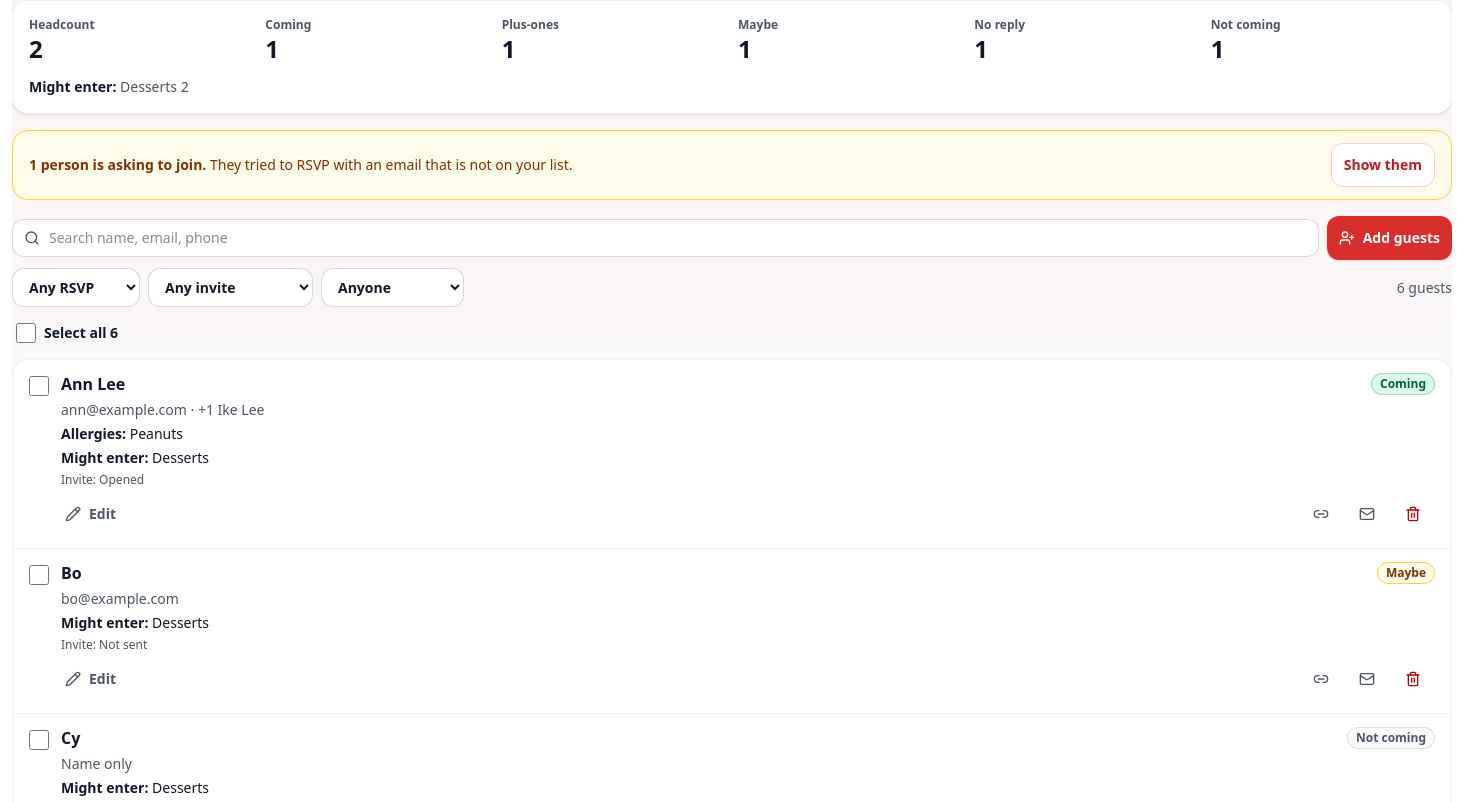
GuestsTab › filters RSVP answer and invite progress separately
The image size is (1464, 802).
Select "Maybe" in the dropdown named "RSVP" at {"x": 76, "y": 288}, box [12, 268, 140, 307]
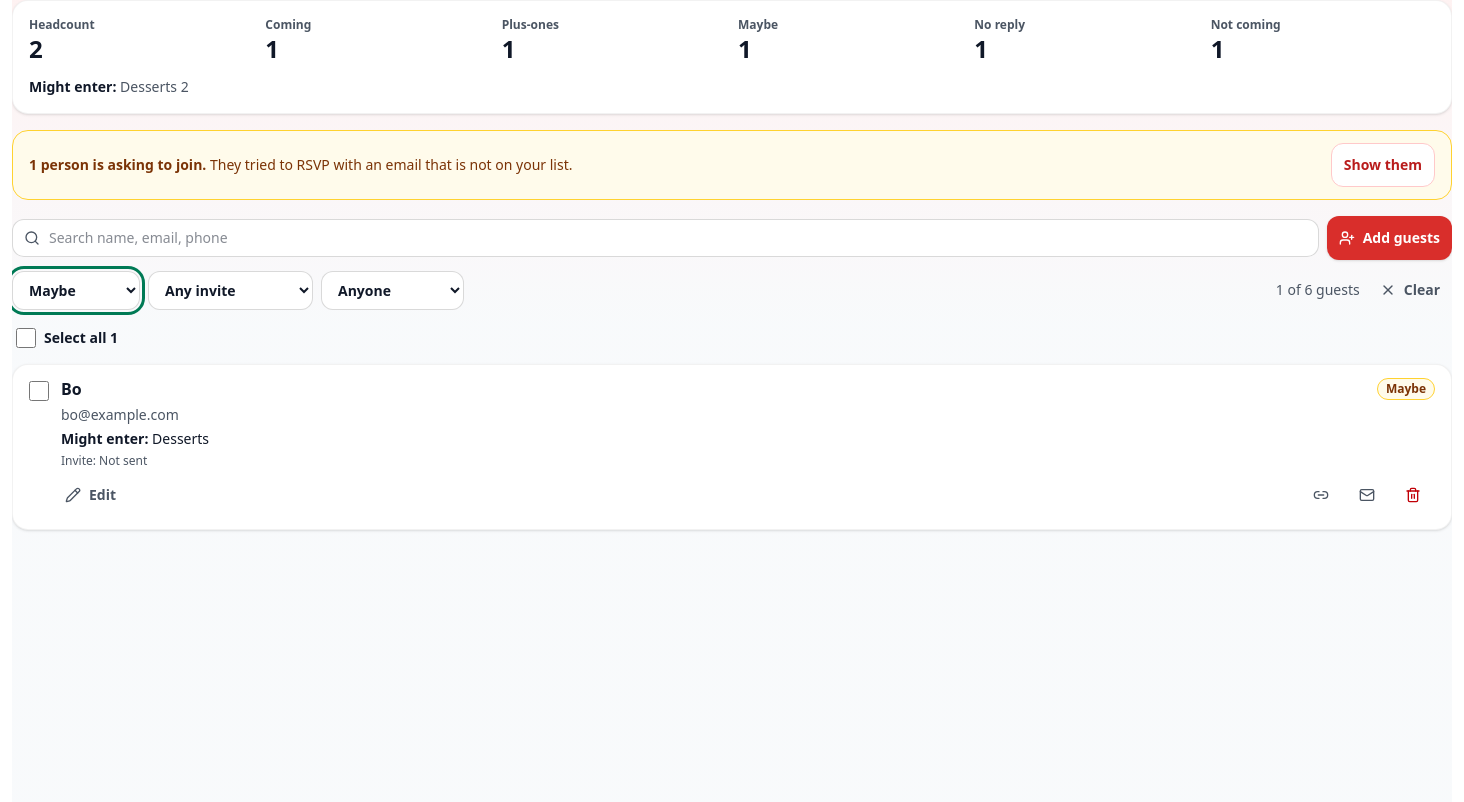
expect the text "Bo" is shown: met, box [61, 378, 82, 400]
expect the text "Ann Lee" is gone: met
Select "Opened" in the dropdown named "Invite" at {"x": 230, "y": 290}, box [148, 270, 313, 310]
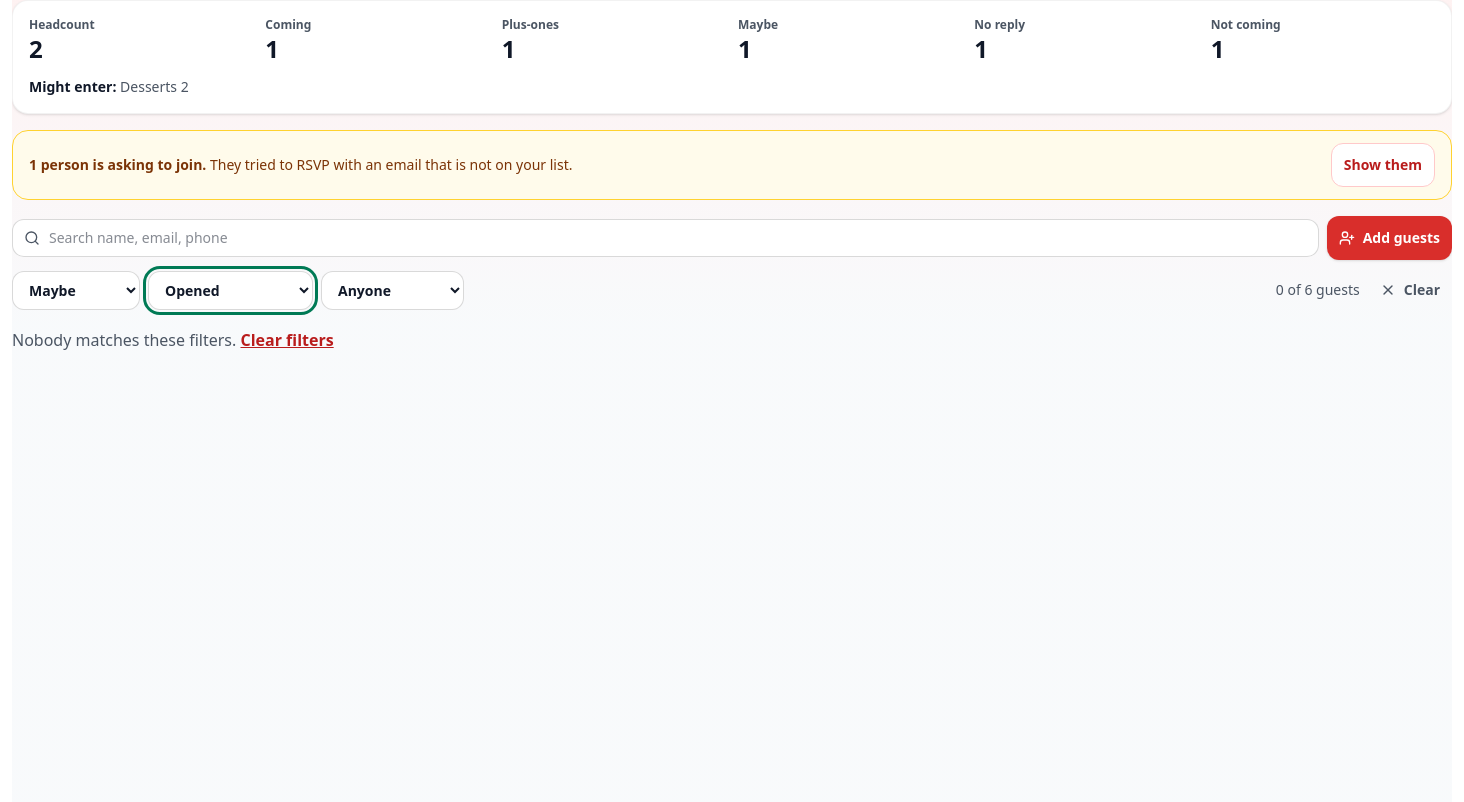
expect the text "Nobody matches these filters." is shown: met, box [12, 329, 236, 351]
Click the button "Clear filters".
click(287, 340)  # box [240, 328, 334, 352]
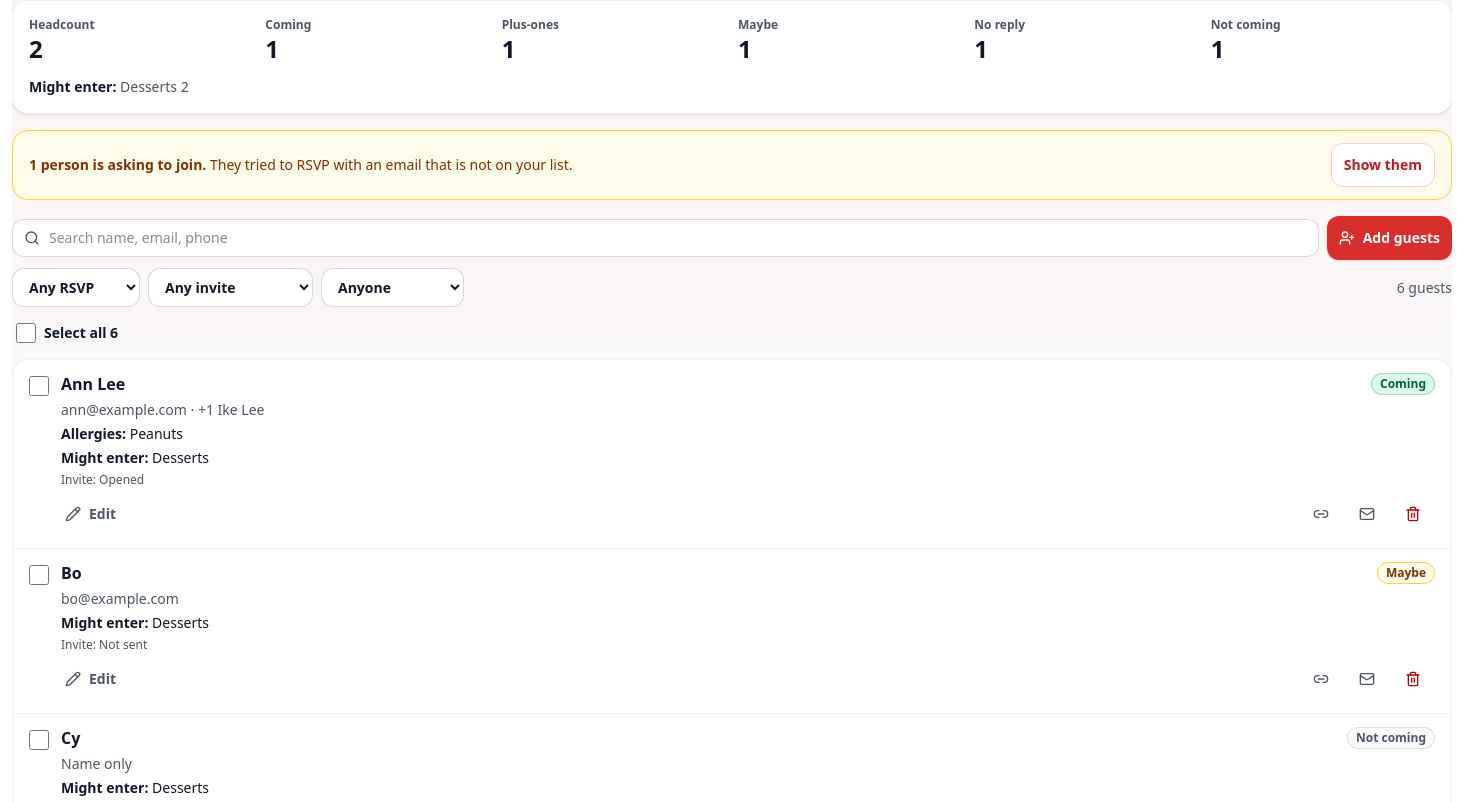
expect the text "Ann Lee" is shown: met, box [61, 373, 125, 395]
